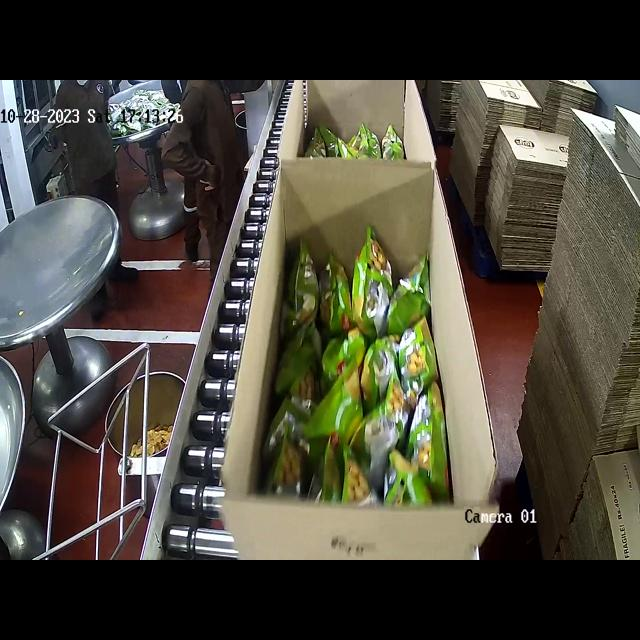yogurt: (259, 224, 451, 507), (309, 119, 415, 161)
